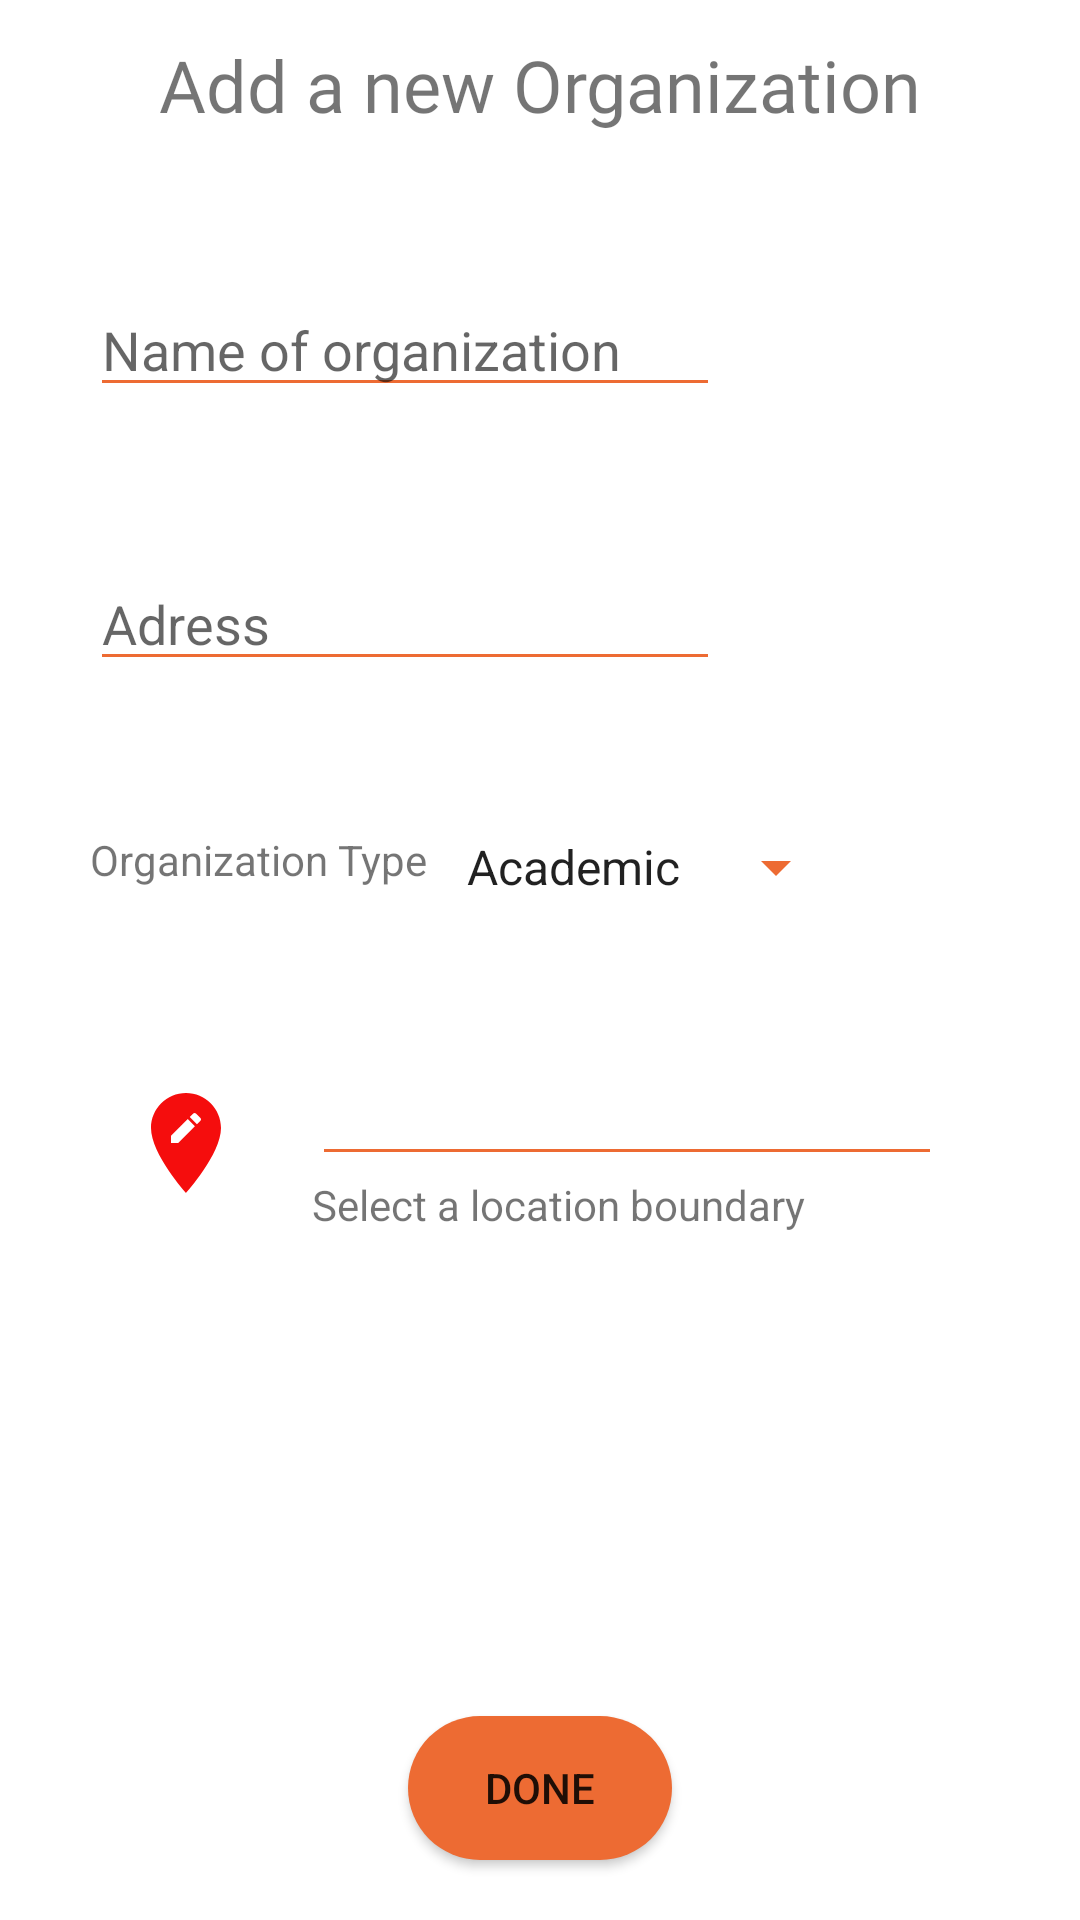

Named icons in this screenshot (1080px×1920px) and their centers, (x=x, y=y):
edit location: (x=186, y=1143)
